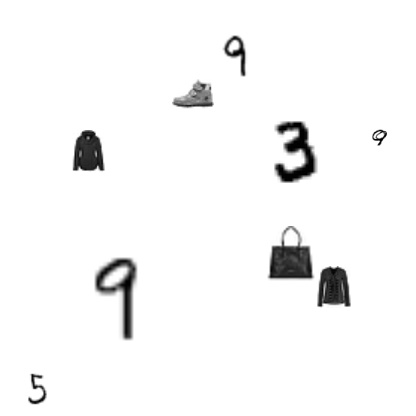3: (254, 110, 338, 194)
5: (15, 368, 57, 410)
9: (64, 231, 176, 343), (209, 24, 265, 80), (368, 125, 390, 147)
Ankle_boot: (172, 72, 214, 114)
Bag: (262, 226, 318, 282)
Coat: (67, 130, 109, 172)
Shirt: (313, 266, 355, 308)
